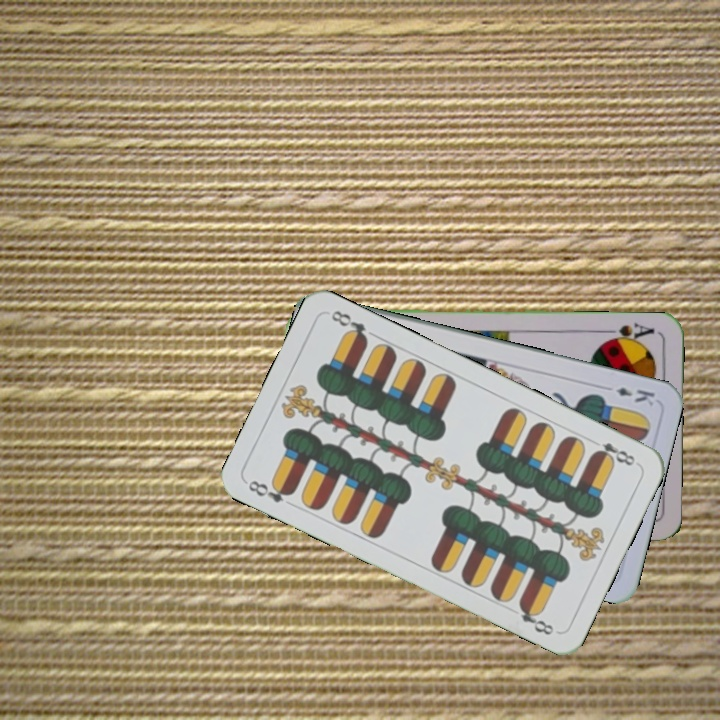E8: (586, 434, 638, 469), (244, 476, 297, 506)
EK: (599, 382, 658, 409)
SA: (599, 319, 657, 346)
